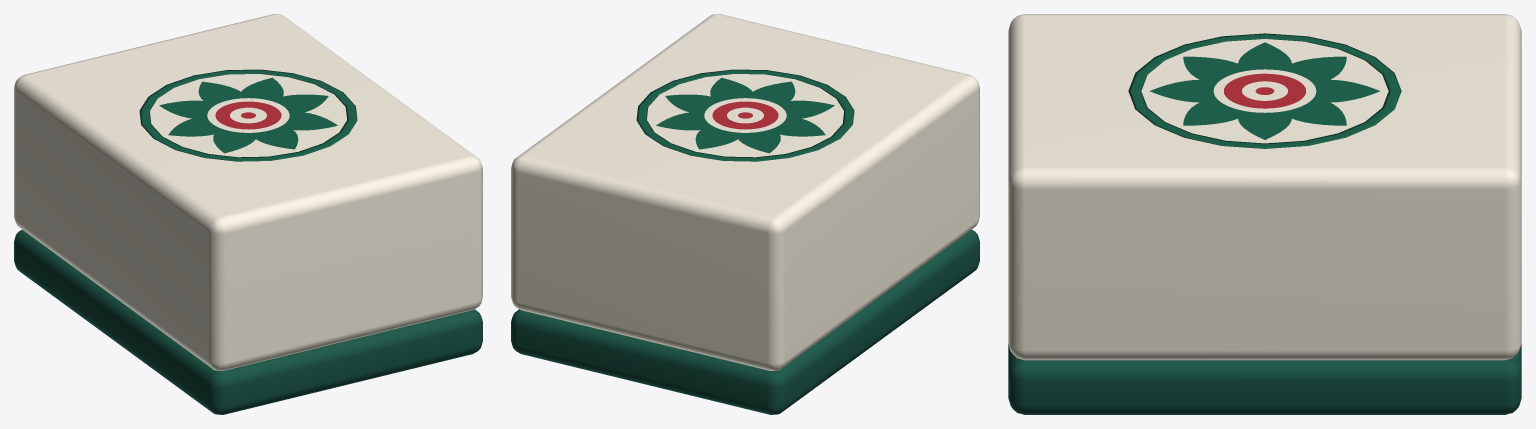
File: tong-01.glb
The picture shows the model from 3 angles, left to right: view 1: azimuth 30°, elevation 25°; view 2: azimuth 150°, elevation 25°; view 3: azimuth 270°, elevation 25°; orthographic projection. The views are drawn at different scales.
Visible parts, largest first — view 1: tong-01_ivory, tong-01_back, tong-01_face_inlays; view 2: tong-01_ivory, tong-01_back, tong-01_face_inlays; view 3: tong-01_ivory, tong-01_back, tong-01_face_inlays.
Part boxes in pixels (bbox=[...]): tong-01_ivory: bbox=[14, 14, 482, 370]; tong-01_back: bbox=[14, 229, 482, 414]; tong-01_face_inlays: bbox=[139, 69, 357, 161]; tong-01_ivory: bbox=[511, 14, 979, 370]; tong-01_back: bbox=[511, 229, 979, 414]; tong-01_face_inlays: bbox=[636, 69, 854, 161]; tong-01_ivory: bbox=[1008, 14, 1521, 360]; tong-01_back: bbox=[1008, 344, 1521, 414]; tong-01_face_inlays: bbox=[1128, 33, 1401, 148].
Bounding box in the file's own units: 0.026 × 0.018 × 0.034.
